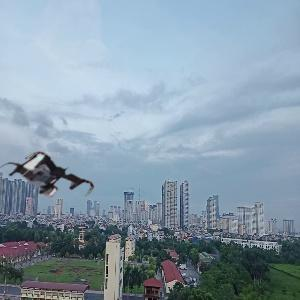drone: (12, 140, 90, 218)
